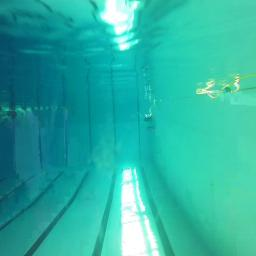Full: (147, 126, 155, 131)
front: (145, 112, 152, 120)
